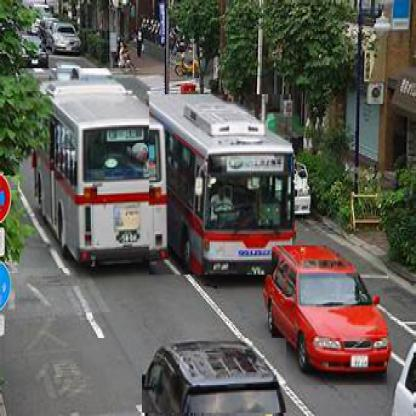bus: (20, 69, 166, 271), (150, 95, 295, 277)
car: (273, 246, 389, 388), (143, 339, 288, 415), (388, 341, 416, 416)
